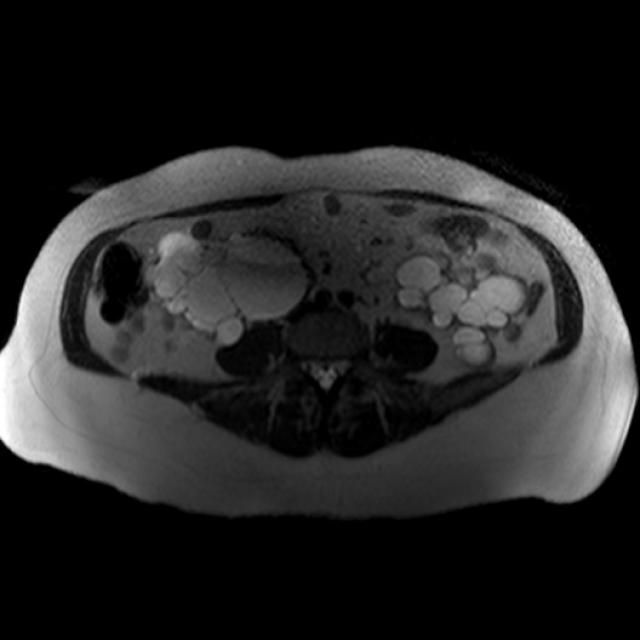sag: (144, 230, 311, 345)
sol: (394, 250, 527, 371)
